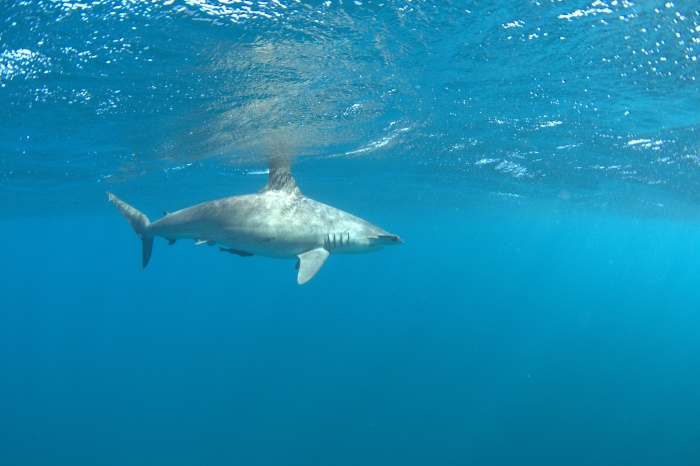Hammer: (108, 146, 415, 302)
